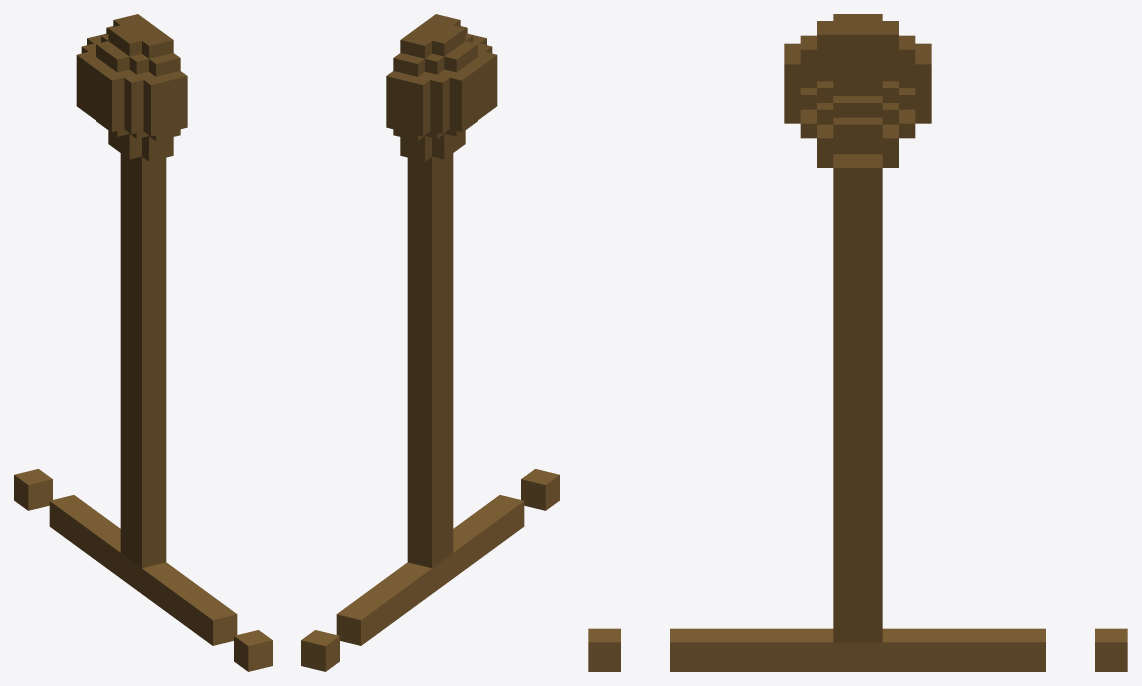
Rendered from Catapult1-1.obj.
3 views of the same model, side by side, from view 1: azimuth 30°, elevation 25°; view 2: azimuth 150°, elevation 25°; view 3: azimuth 270°, elevation 25° (orthographic). The views are drawn at different scales.
Bounding box in the file's own units: 0.5 × 4.3 × 3.3.
Materials: 1 (1 with a texture image).
